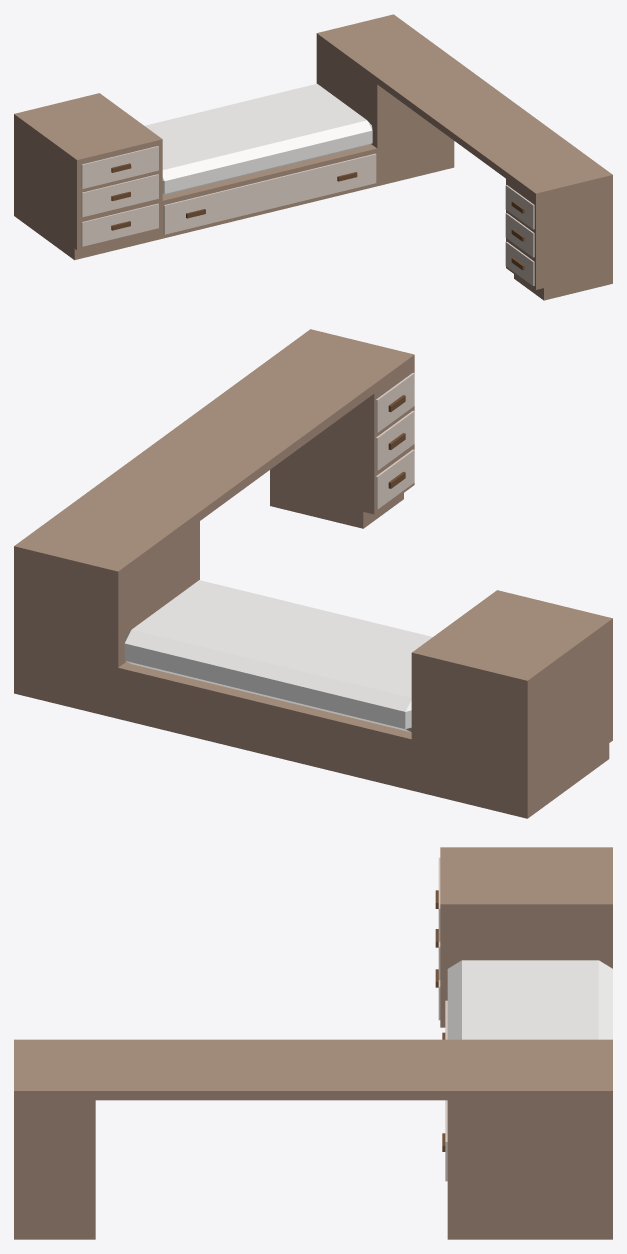
File: Cabinets_set.fbx
3 views of the same model, one above another, from view 1: azimuth 30°, elevation 25°; view 2: azimuth 150°, elevation 25°; view 3: azimuth 270°, elevation 25° (orthographic). The views are drawn at different scales.
Parts seen in each view (by area): view 1: Cabinets_set; view 2: Cabinets_set; view 3: Cabinets_set.
Part boxes in pixels (box(x1,y1,x2,y2)): Cabinets_set: box(14, 14, 612, 300); Cabinets_set: box(14, 329, 612, 818); Cabinets_set: box(14, 847, 612, 1239).
Bounding box in the file's own units: 489 × 489 × 134.
